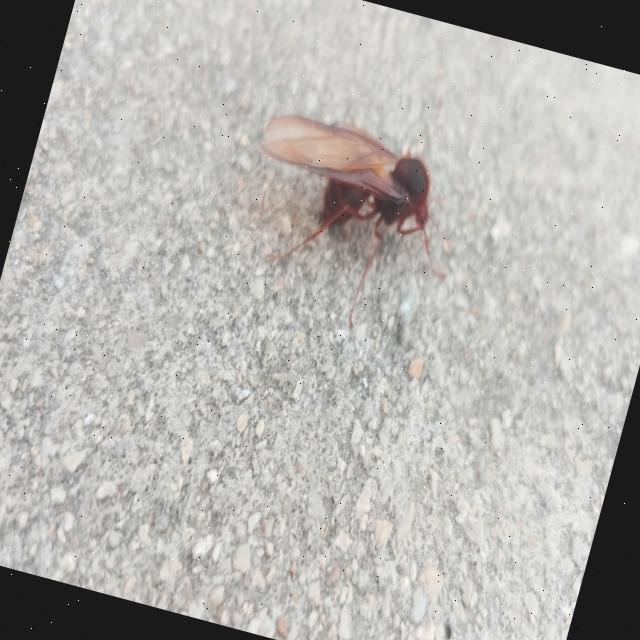Alive-Male-Alate: (220, 105, 477, 348)
